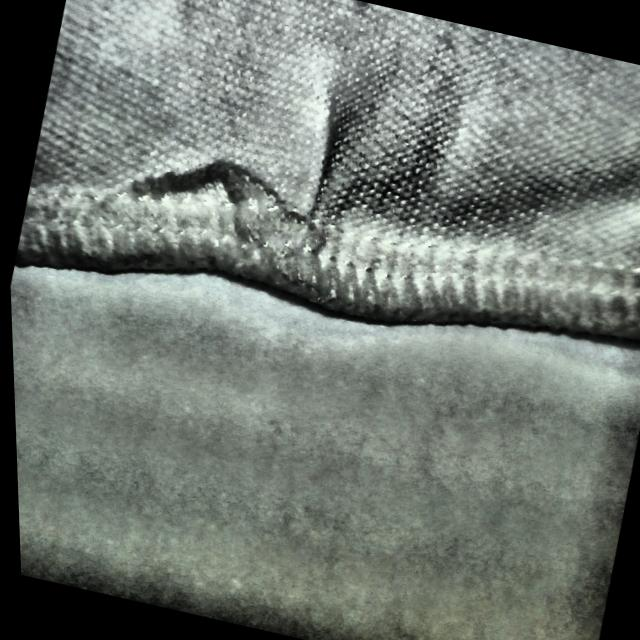seam: (109, 52, 392, 312)
